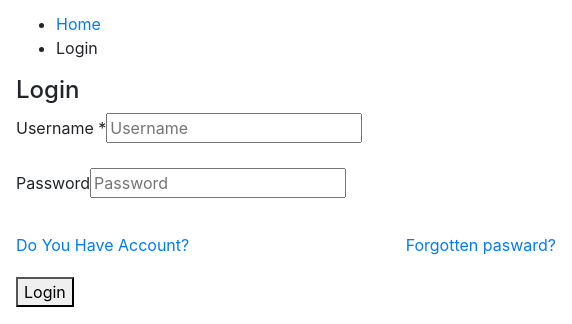
SignIn Component › Form Validation › hiển thị lỗi khi username không tồn tại
The width and height of the screenshot is (572, 324).
Type "wronguser" into the field with placeholder "Username" at x=234, y=128, box [106,113,362,143]
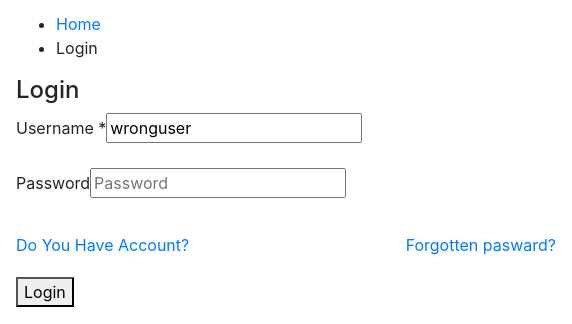
Type "password123" into the password field with placeholder "Password" at x=218, y=183, box [90,168,346,198]
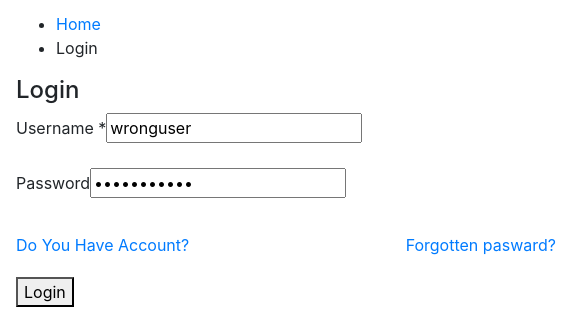
Click the button "Login" at x=45, y=292, box [16,277,74,307]
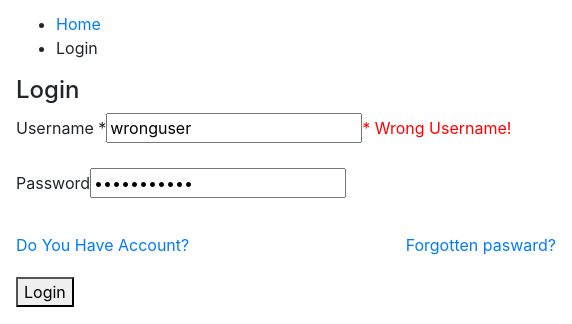
Result: the text "* Wrong Username!" is shown at [362,118,512,138]
